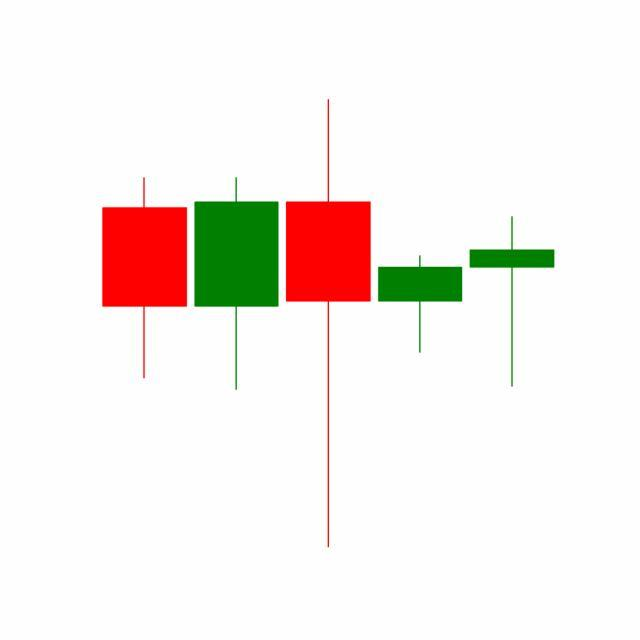Spinning Top: (466, 215, 559, 390)
